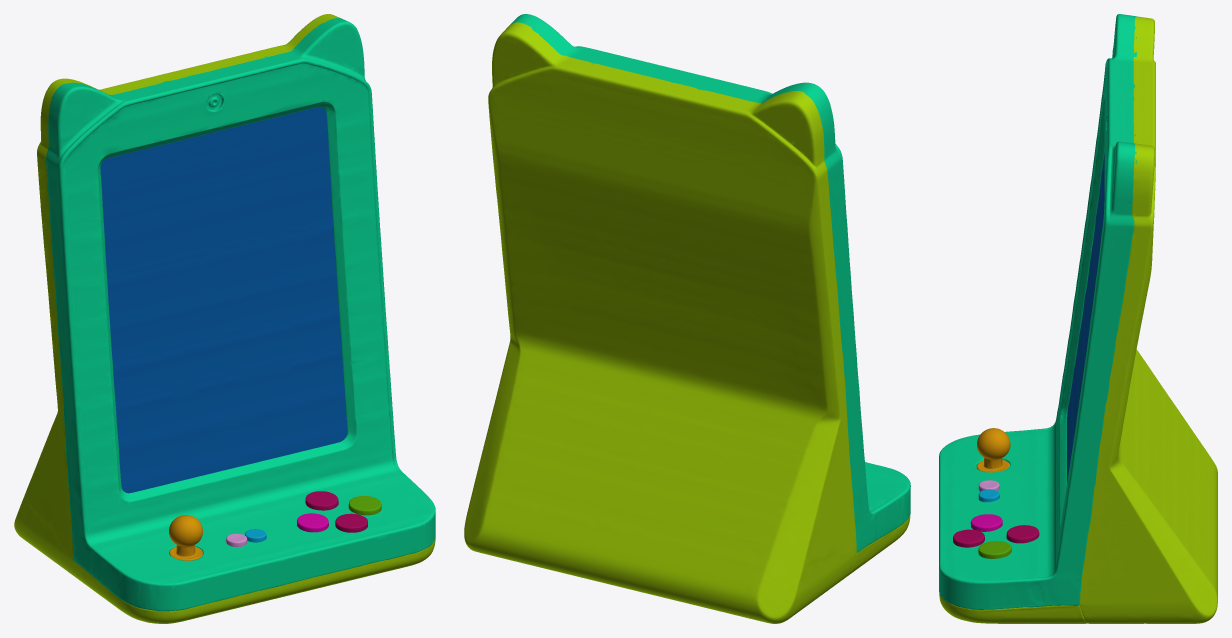
The model's file is Pet_Box.lite.glb.
The picture shows the model from 3 angles, left to right: view 1: azimuth 30°, elevation 25°; view 2: azimuth 150°, elevation 25°; view 3: azimuth 270°, elevation 25°; orthographic projection. The views are drawn at different scales.
Visible parts, largest first — view 1: part_1, part_6, part_4, part_0, part_5; view 2: part_4, part_1; view 3: part_4, part_1, part_6, part_0, part_5, part_7, part_2.
Boxes of the visible parts, x1,y1,x2,y2 form: part_1: (46, 18, 435, 611); part_6: (100, 107, 347, 493); part_4: (14, 14, 435, 623); part_0: (169, 515, 202, 560); part_5: (305, 491, 367, 532); part_4: (464, 22, 910, 623); part_1: (510, 14, 910, 552); part_4: (939, 16, 1217, 623); part_1: (939, 14, 1137, 609); part_6: (1067, 153, 1104, 482); part_0: (976, 428, 1010, 472); part_5: (953, 525, 1039, 547); part_7: (978, 541, 1011, 558); part_2: (970, 514, 1002, 531).
Bounding box in the file's own units: 0.6449 × 0.9406 × 0.5022.
